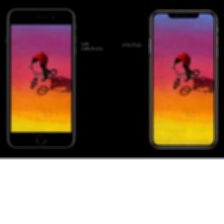phone: (146, 6, 221, 152), (4, 4, 78, 151)
